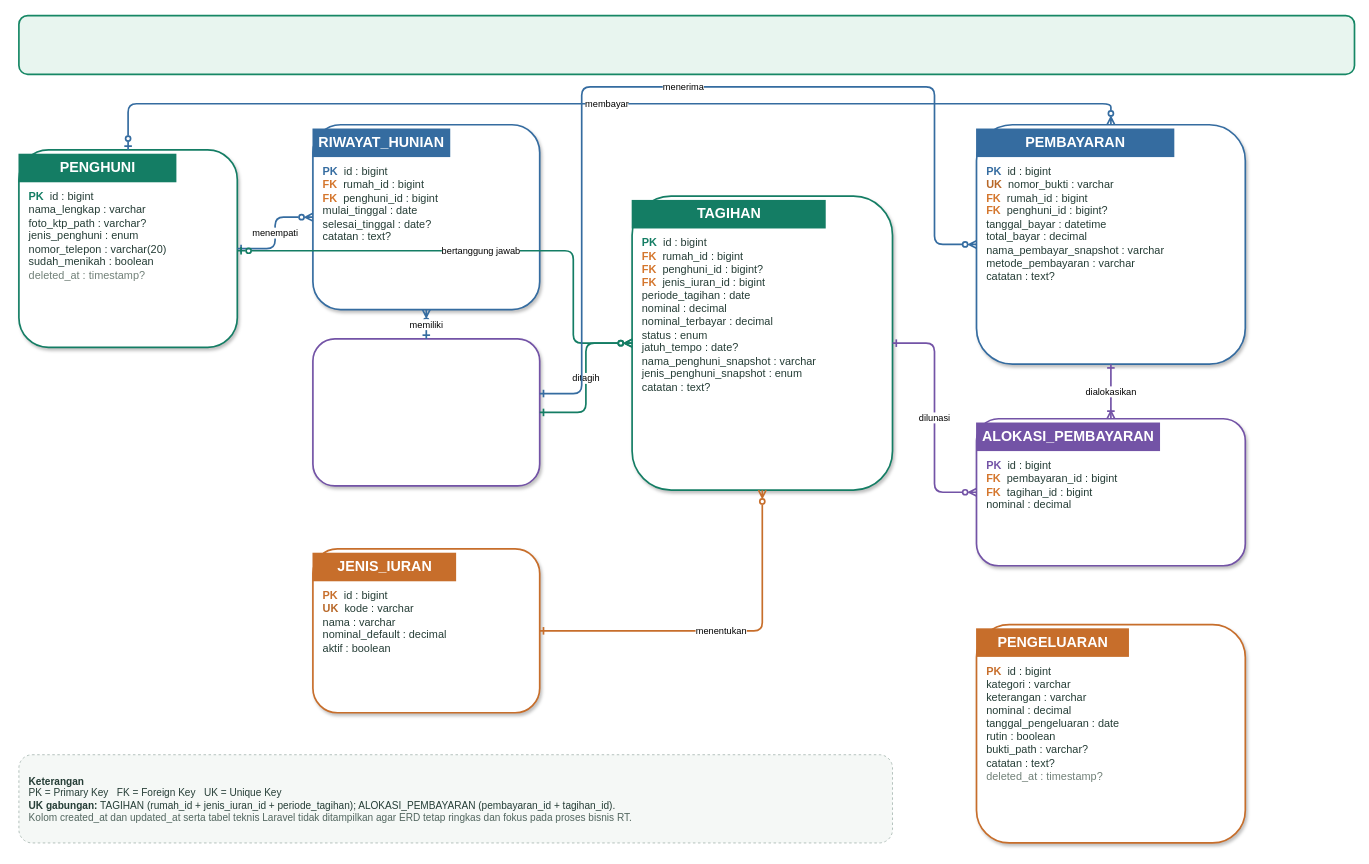
This 1369x864 diagram has some shape labels left out. Each missing label, with the centre of its shape:
"ENTITY RELATIONSHIP DIAGRAM Sistem Administrasi RT - Tabel Bisnis Utama" belongs at pixel 686 44.
"RUMAH PK id : bigint UK nomor_rumah : varchar alamat : varchar? catatan : text?" belongs at pixel 426 413.
